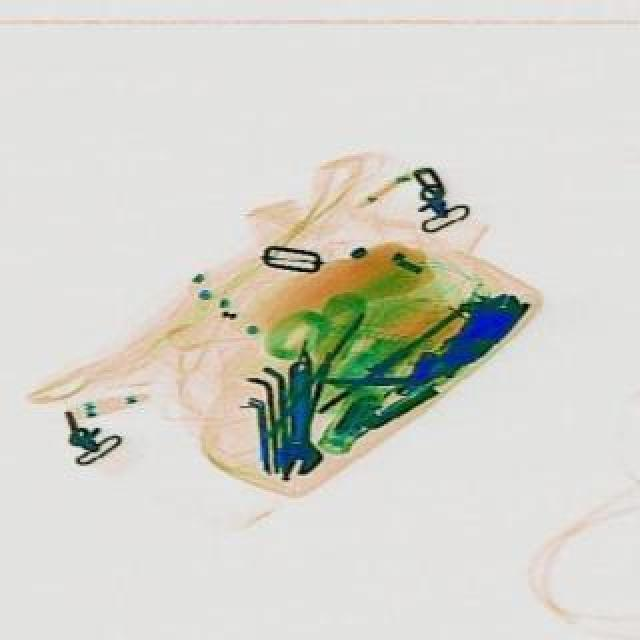scissors: (270, 360, 324, 474)
